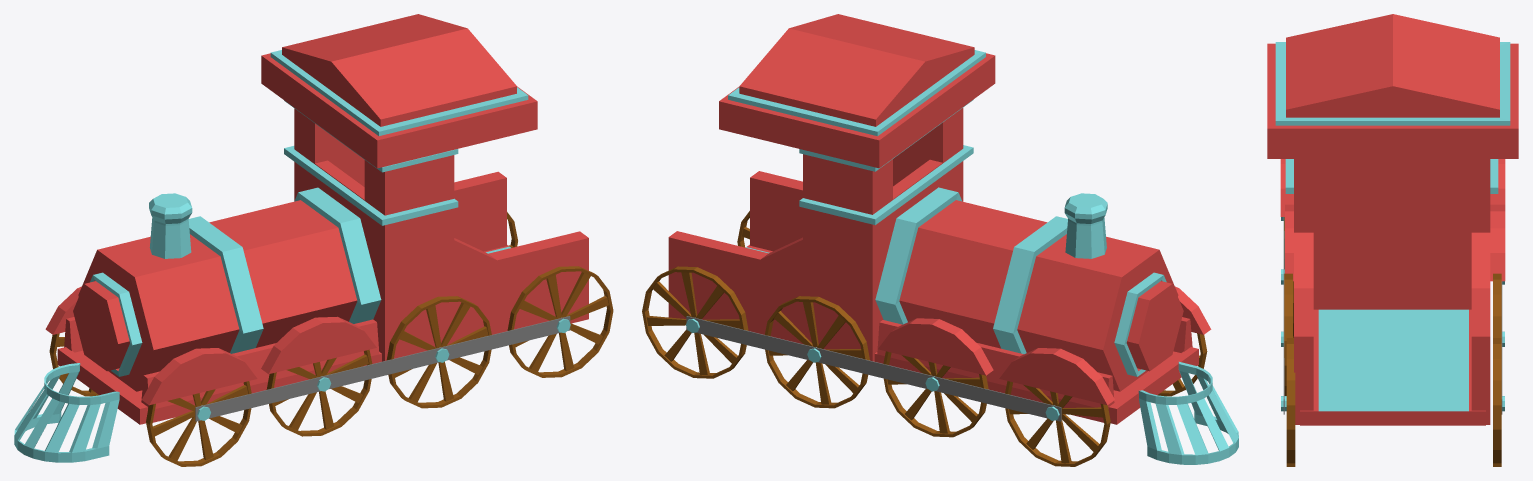
The model's file is Loco_couleur01.fbx.
3 renders of one model, left to right at view 1: azimuth 30°, elevation 25°; view 2: azimuth 150°, elevation 25°; view 3: azimuth 270°, elevation 25°, orthographic. The views are drawn at different scales.
Visible parts, largest first — view 1: Locomotive, Gauche_GB, Devanture, RailRoue_Droite.001, LW_04, LW_03, LW_01, LW_02, Cheminée, Droite_GB, Gauche_Vis; view 2: Locomotive, Droite_GB, Devanture, RailRoue_Droite.000, RW_04, RW_03, RW_01, RW_02, Cheminée, Gauche_GB, Doite_Vis; view 3: Locomotive, Droite_GB, LW_04, RW_04, Gauche_GB, LW_03, RW_03, RailRoue_Droite.001.
Boxes of the visible parts, <box> form: Locomotive: <box>57,14,588,424</box>; Gauche_GB: <box>141,316,376,405</box>; Devanture: <box>14,363,119,462</box>; RailRoue_Droite.001: <box>195,316,570,421</box>; LW_04: <box>507,266,613,377</box>; LW_03: <box>386,296,491,408</box>; LW_01: <box>146,381,251,466</box>; LW_02: <box>266,349,372,436</box>; Cheminée: <box>149,193,192,258</box>; Droite_GB: <box>45,286,81,334</box>; Gauche_Vis: <box>197,317,570,420</box>; Locomotive: <box>668,14,1198,424</box>; Droite_GB: <box>878,318,1114,405</box>; Devanture: <box>1138,361,1238,464</box>; RailRoue_Droite.000: <box>686,316,1061,421</box>; RW_04: <box>642,266,748,378</box>; RW_03: <box>764,296,869,408</box>; RW_01: <box>1005,381,1110,466</box>; RW_02: <box>883,351,988,437</box>; Cheminée: <box>1064,193,1107,258</box>; Gauche_GB: <box>1175,286,1211,334</box>; Doite_Vis: <box>686,317,1059,420</box>; Locomotive: <box>1267,14,1518,425</box>; Droite_GB: <box>1490,159,1505,281</box>; LW_04: <box>1286,338,1295,466</box>; RW_04: <box>1493,338,1501,466</box>; Gauche_GB: <box>1280,159,1293,281</box>; LW_03: <box>1284,273,1292,395</box>; RW_03: <box>1493,273,1501,337</box>; RailRoue_Droite.001: <box>1283,217,1284,414</box>.
Bounding box in the file's own units: 1661 × 949 × 616.
